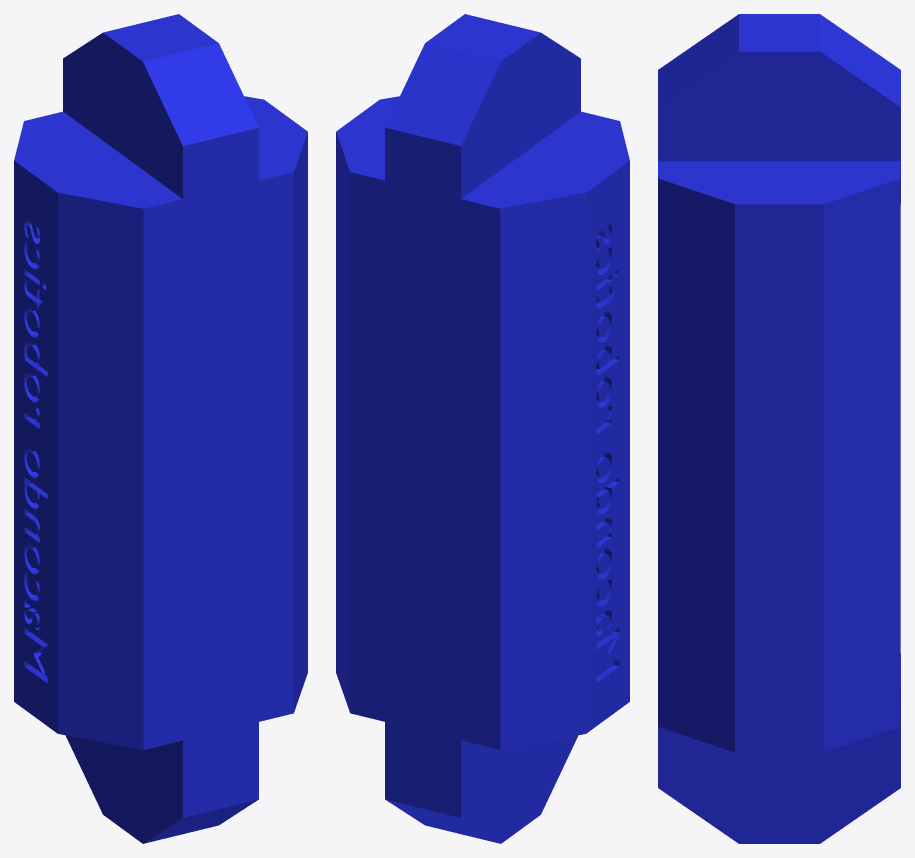
The model's file is main.glb.
3 views of the same model, side by side, from view 1: azimuth 30°, elevation 25°; view 2: azimuth 150°, elevation 25°; view 3: azimuth 270°, elevation 25° (orthographic).
Visible parts, largest first — view 1: Cube.001; view 2: Cube.001; view 3: Cube.001.
Part boxes in pixels (x1=…): Cube.001: x1=14, y1=14, x2=307, y2=843; Cube.001: x1=336, y1=14, x2=629, y2=843; Cube.001: x1=658, y1=14, x2=900, y2=843.
Bounding box in the file's own units: 7.88 × 23.56 × 6.54.
